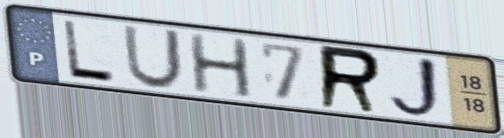7: (258, 40, 307, 104)
H: (186, 32, 256, 101)
J: (385, 54, 449, 122)
L: (59, 17, 119, 85)
R: (316, 42, 385, 117)
U: (120, 23, 185, 92)
